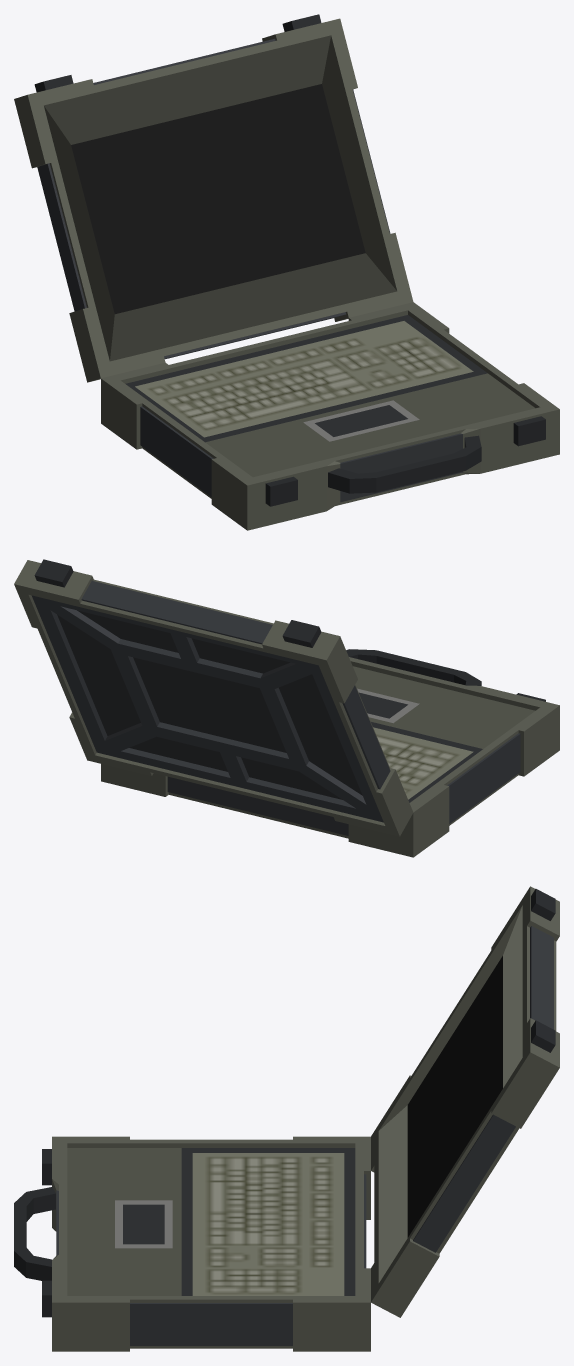
Rendered from SM_Item_Laptop_01.fbx.
3 views of the same model, one above another, from view 1: azimuth 30°, elevation 25°; view 2: azimuth 150°, elevation 25°; view 3: azimuth 270°, elevation 25° (orthographic). The views are drawn at different scales.
Parts seen in each view (by area): view 1: SM_Item_Laptop_Lid_01, SM_Item_Laptop_01; view 2: SM_Item_Laptop_Lid_01, SM_Item_Laptop_01; view 3: SM_Item_Laptop_01, SM_Item_Laptop_Lid_01.
Part boxes in pixels (left/top/right/bottom): SM_Item_Laptop_Lid_01: left=14, top=14, right=413, bottom=382; SM_Item_Laptop_01: left=101, top=302, right=559, bottom=530; SM_Item_Laptop_Lid_01: left=14, top=559, right=413, bottom=836; SM_Item_Laptop_01: left=101, top=649, right=559, bottom=857; SM_Item_Laptop_01: left=14, top=1136, right=370, bottom=1351; SM_Item_Laptop_Lid_01: left=371, top=886, right=559, bottom=1317.
Bounding box in the file's own units: 51.4 × 44.31 × 71.43.
